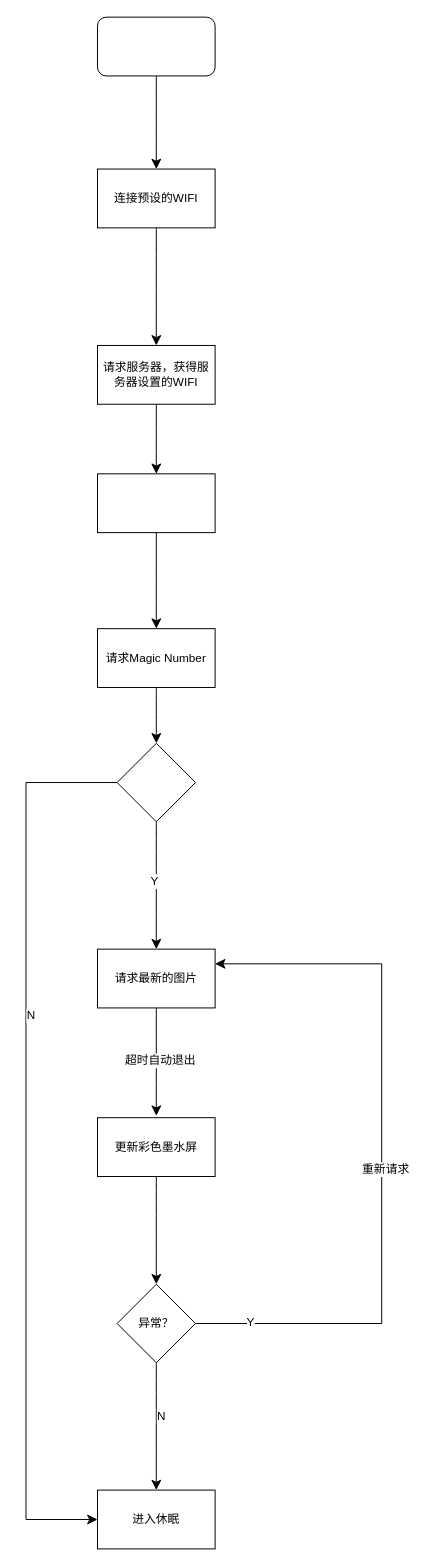
This 425x1566 diagram has some shape labels left out. The centre of each missing label's shape, as x and y in pixels:
"Update?" belongs at (x=156, y=782).
"上电" belongs at (x=156, y=46).
"重新连接WIFI" belongs at (x=156, y=503).
